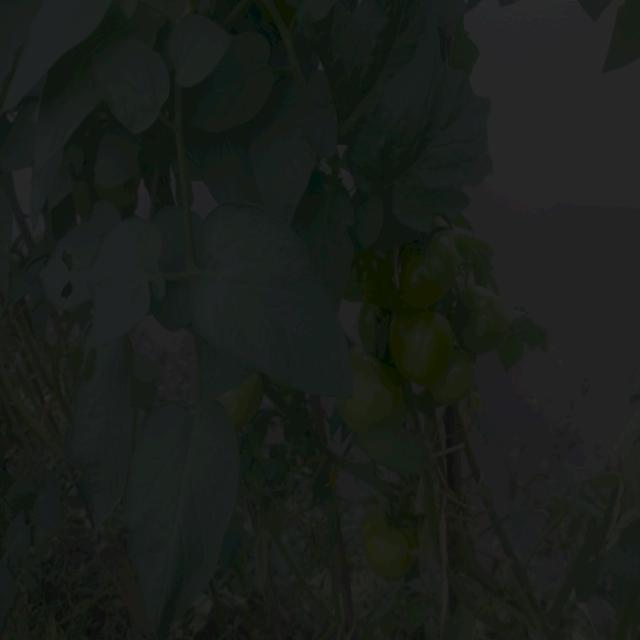tomato: (399, 235, 465, 317), (390, 316, 451, 379), (365, 529, 415, 583), (355, 357, 396, 422), (436, 357, 481, 411), (221, 384, 267, 429), (95, 181, 144, 219), (358, 300, 382, 357)
